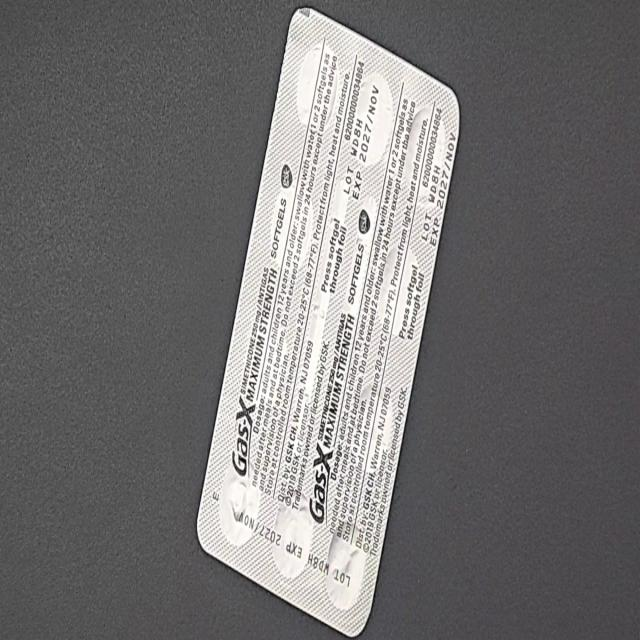no defect: (12, 11, 33, 58)
